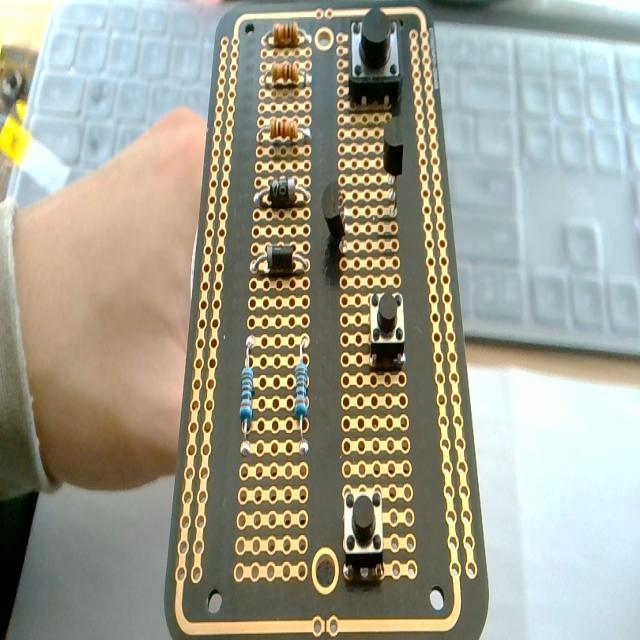diode: (253, 174, 310, 208), (252, 246, 309, 276)
resistor: (293, 336, 310, 454), (239, 334, 255, 454), (259, 118, 310, 146), (262, 22, 312, 48), (262, 62, 311, 86)
switch: (347, 8, 403, 108), (342, 486, 384, 580), (368, 288, 406, 371)
transistor: (321, 180, 349, 280), (381, 118, 404, 213)
